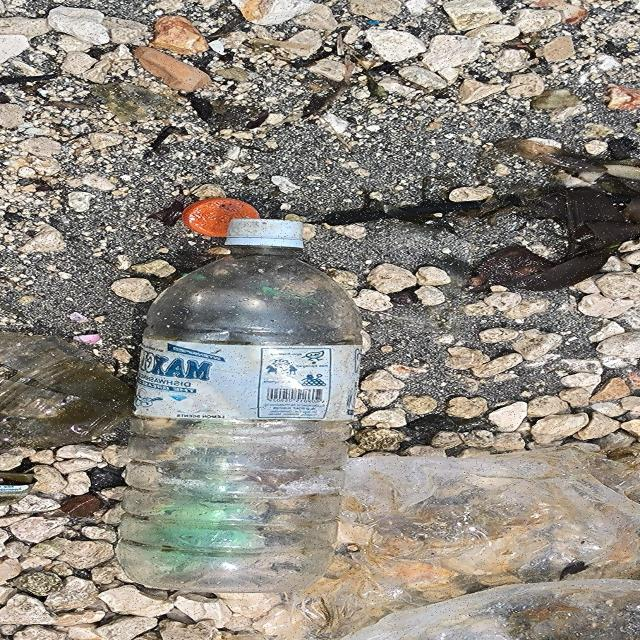plastic_waste: (112, 219, 365, 596), (181, 198, 262, 239)
